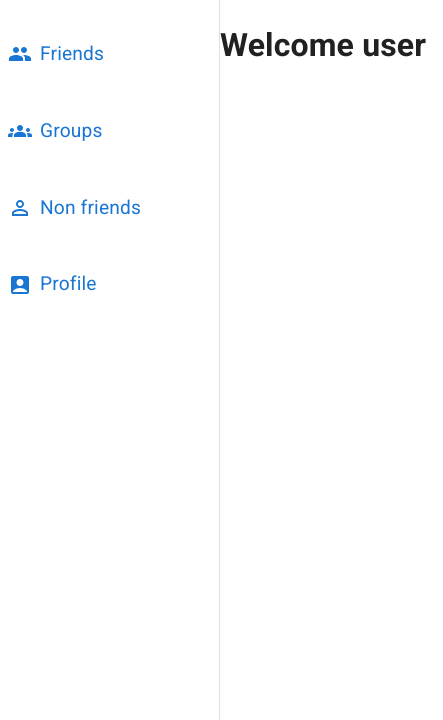
Scenario: navigation-sidebar component › groups icon link › should navigate to '/groups' path when groups link is clicked
Step 1. Click the link "Groups" → click(55, 131), box [8, 119, 102, 143]
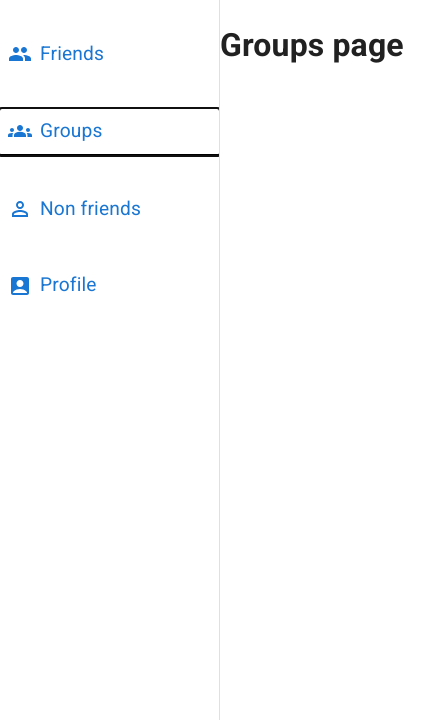
Now the heading "Groups page" is shown, box [220, 21, 404, 69]
